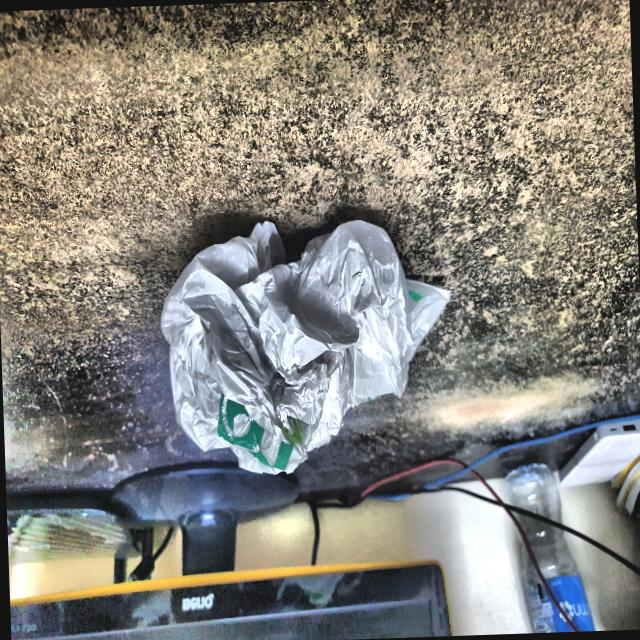plastic bag: (154, 200, 466, 490)
